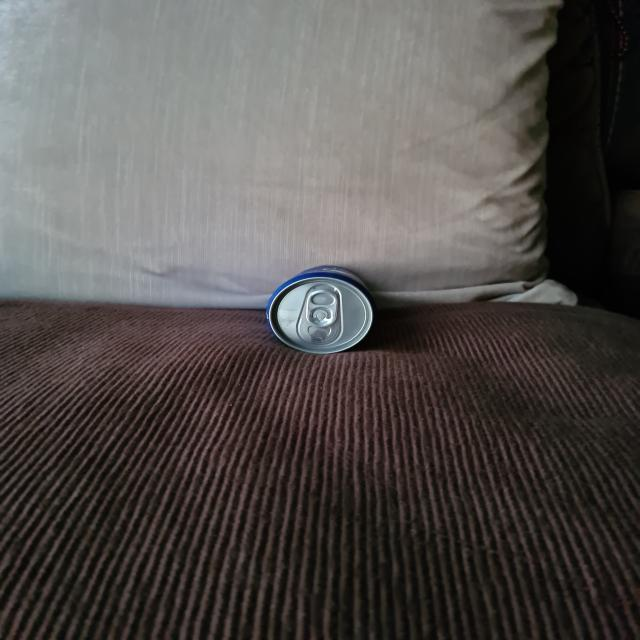Kaleng: (263, 264, 375, 355)
